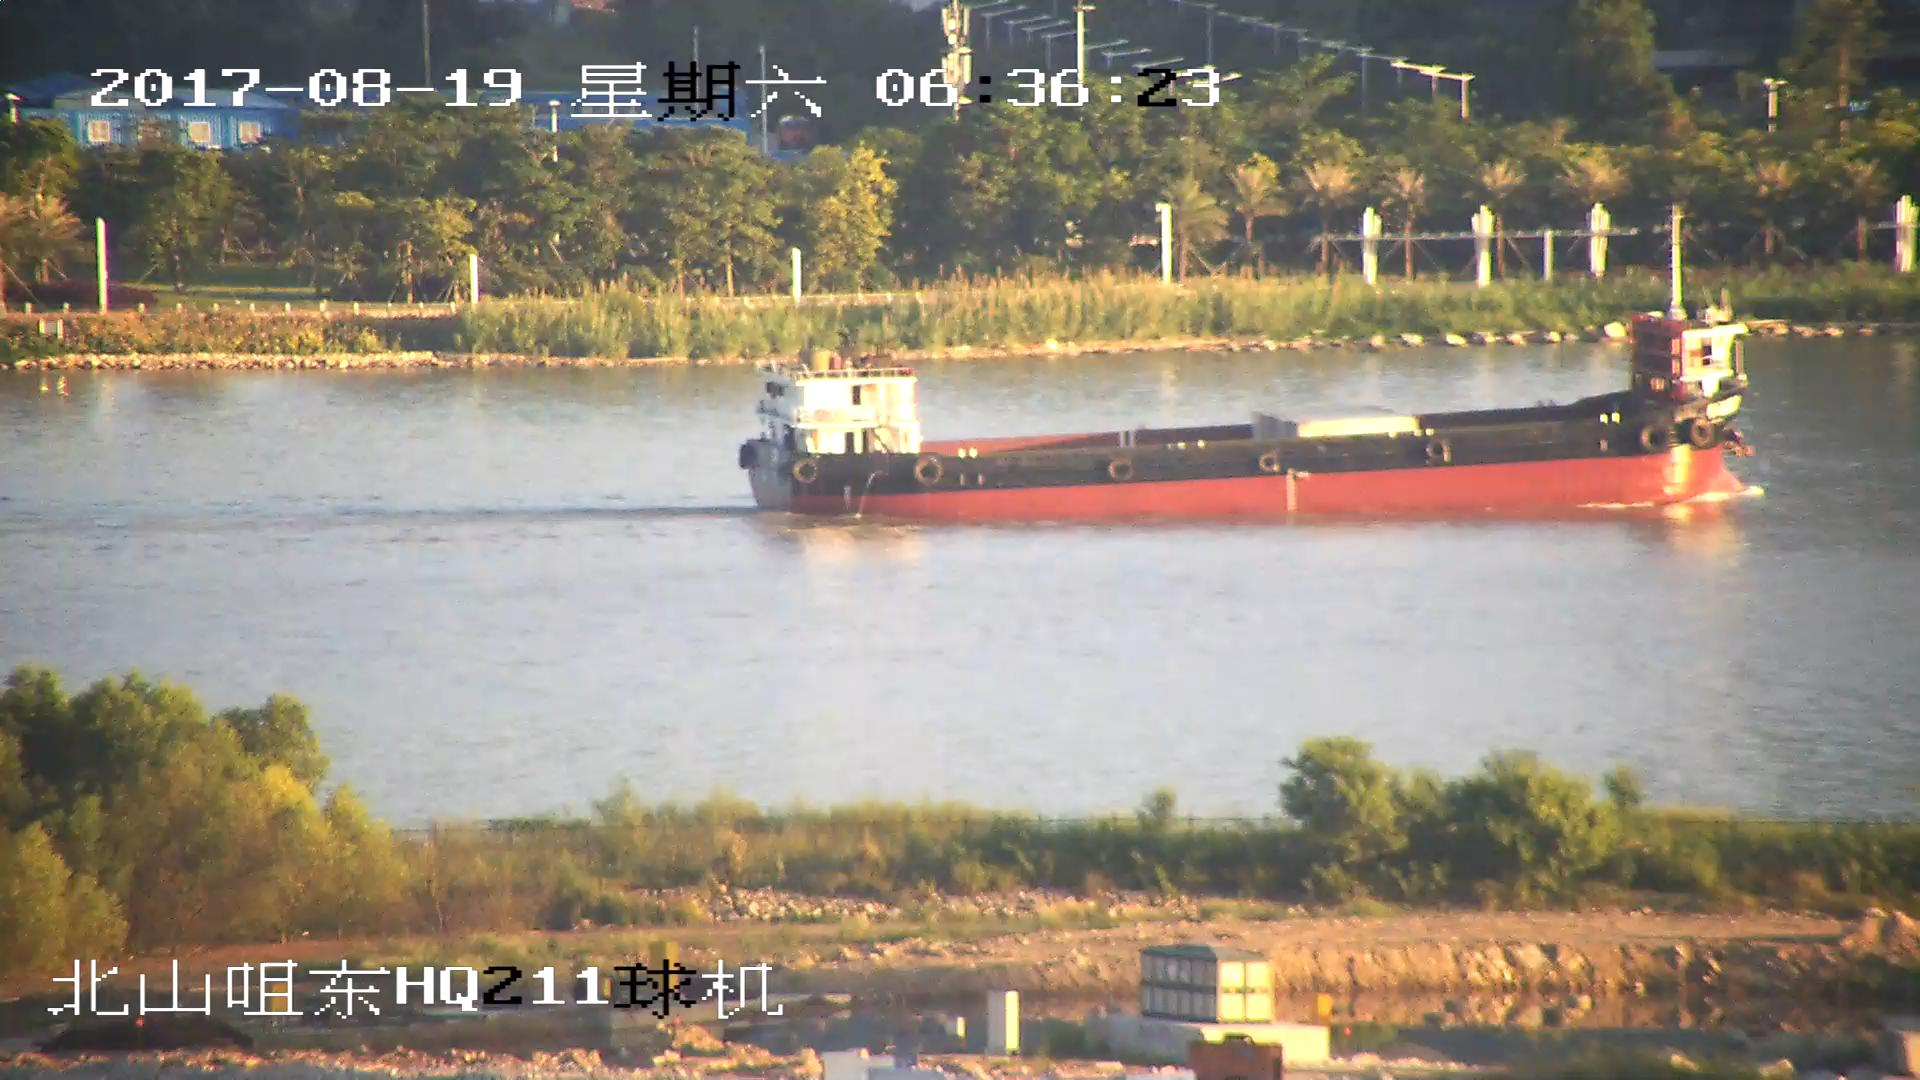general cargo ship: (753, 302, 1744, 534)
